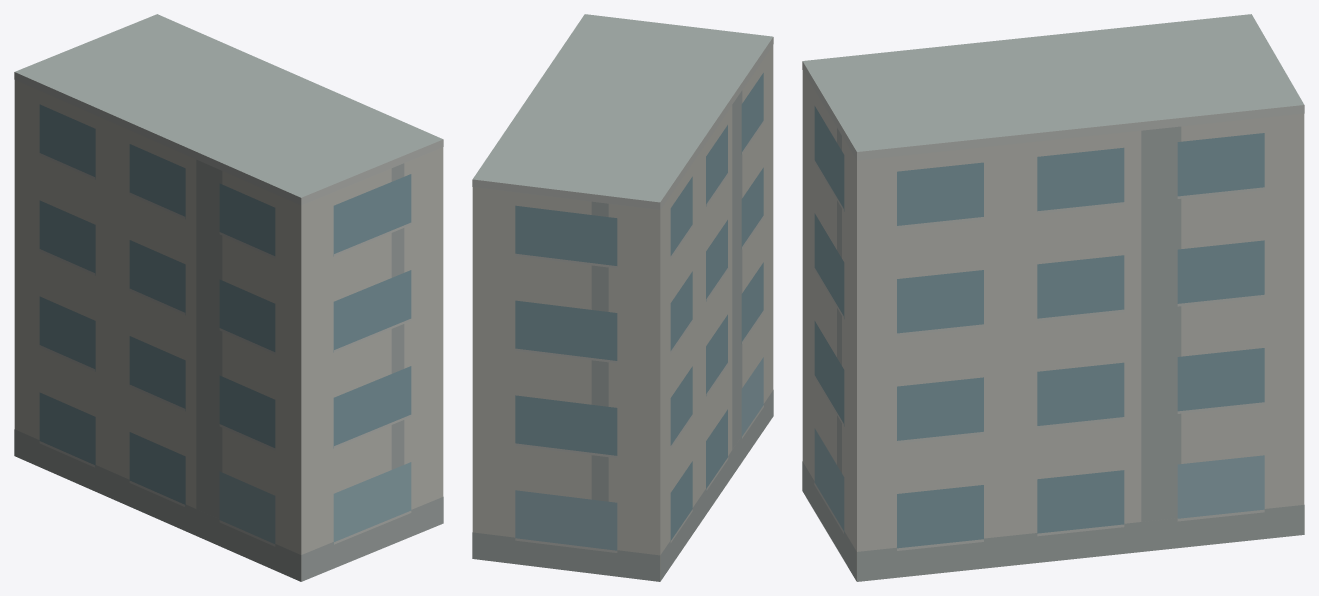
File: residential-6d7d17db-1378-4095-bf40-6e04b8938b69.glb
3 views of the same model, side by side, from view 1: azimuth 30°, elevation 25°; view 2: azimuth 150°, elevation 25°; view 3: azimuth 270°, elevation 25° (orthographic). The views are drawn at different scales.
Parts seen in each view (by area): view 1: residential-6d7d17db-1378-4095-bf40-6e04b8938b69.tmp; view 2: residential-6d7d17db-1378-4095-bf40-6e04b8938b69.tmp; view 3: residential-6d7d17db-1378-4095-bf40-6e04b8938b69.tmp.
Boxes of the visible parts, x1,y1,x2,y2 form: residential-6d7d17db-1378-4095-bf40-6e04b8938b69.tmp: (14, 14, 443, 581); residential-6d7d17db-1378-4095-bf40-6e04b8938b69.tmp: (472, 14, 773, 581); residential-6d7d17db-1378-4095-bf40-6e04b8938b69.tmp: (802, 14, 1304, 581).
Bounding box in the file's own units: 8.41 × 12.2 × 12.92.
